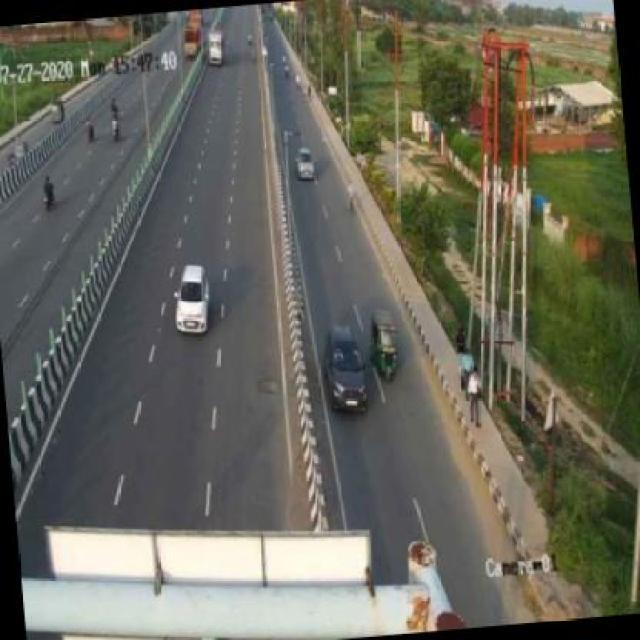car: (310, 314, 372, 420), (167, 257, 216, 341), (289, 135, 325, 188)
